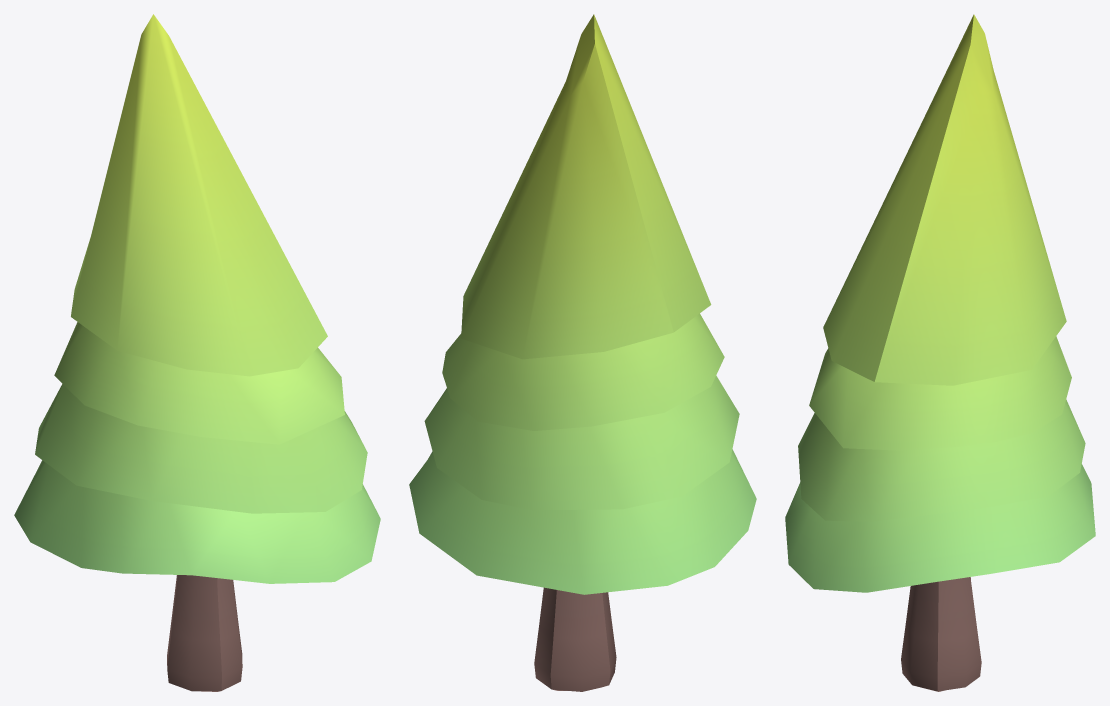
File: Tree02_M_Green.fbx
The picture shows the model from 3 angles, left to right: view 1: azimuth 30°, elevation 25°; view 2: azimuth 150°, elevation 25°; view 3: azimuth 270°, elevation 25°; orthographic projection. The views are drawn at different scales.
Visible parts, largest first — view 1: Tree02_M_Green; view 2: Tree02_M_Green; view 3: Tree02_M_Green.
Boxes of the visible parts, x1,y1,x2,y2 form: Tree02_M_Green: [14, 14, 380, 691]; Tree02_M_Green: [409, 14, 756, 691]; Tree02_M_Green: [785, 14, 1095, 691].
Bounding box in the file's own units: 7.11 × 14.9 × 6.46.
